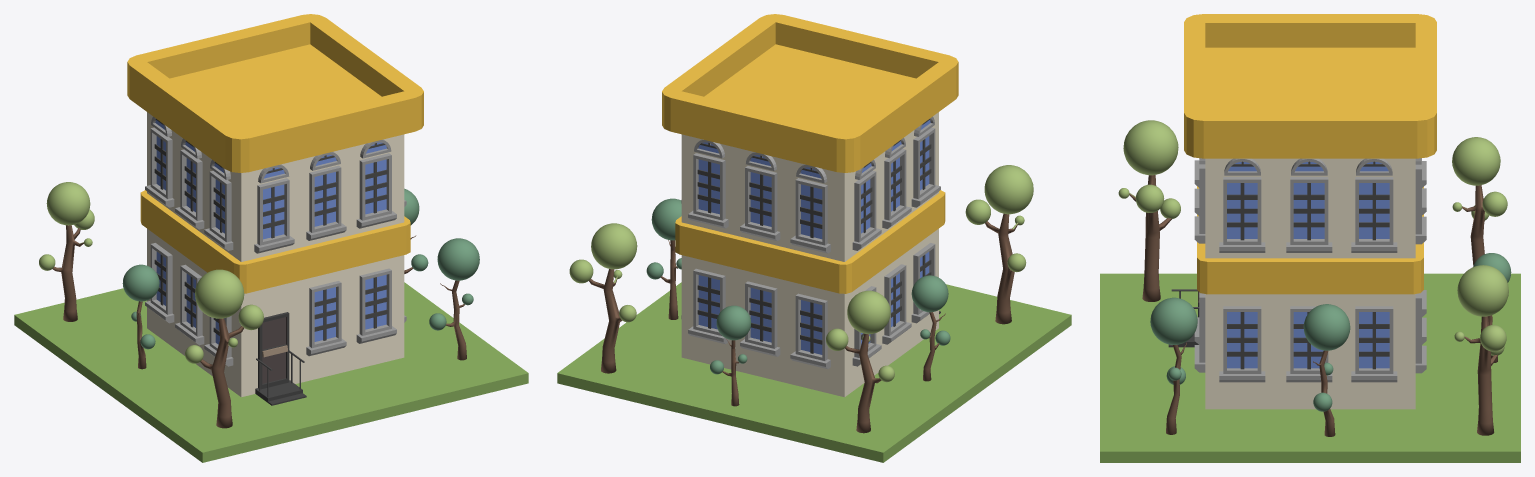
Rendered from buildingS.fbx.
3 renders of one model, left to right at view 1: azimuth 30°, elevation 25°; view 2: azimuth 150°, elevation 25°; view 3: azimuth 270°, elevation 25°, orthographic. The views are drawn at different scales.
Visible parts, largest first — view 1: Cube.098, Cube.124, Cylinder.029, Cylinder.028, Cube.122, Cylinder.032, Cube.101, Cube.100, Cube.099, Cube.103, Cube.102, Cylinder.025 (+7 smaller); view 2: Cube.098, Cube.124, Cylinder.029, Cylinder.027, Cylinder.028, Cube.114, Cube.113, Cube.115, Cube.110, Cube.112, Cube.111, Cylinder.026 (+8 smaller); view 3: Cube.098, Cube.124, Cylinder.029, Cylinder.027, Cylinder.028, Cube.121, Cube.120, Cube.118, Cube.117, Cube.116, Cylinder.032, Cylinder.026 (+9 smaller).
Boxes of the visible parts, bbox=[...] form: Cube.098: bbox=[127, 14, 423, 397]; Cube.124: bbox=[14, 282, 528, 462]; Cylinder.029: bbox=[185, 269, 263, 428]; Cylinder.028: bbox=[39, 182, 94, 321]; Cube.122: bbox=[255, 312, 306, 405]; Cylinder.032: bbox=[429, 238, 479, 360]; Cube.101: bbox=[356, 153, 396, 228]; Cube.100: bbox=[254, 178, 294, 253]; Cube.099: bbox=[306, 165, 346, 240]; Cube.103: bbox=[356, 268, 396, 343]; Cube.102: bbox=[306, 281, 346, 356]; Cylinder.025: bbox=[122, 264, 159, 369]; Cube.098: bbox=[662, 14, 958, 397]; Cube.124: bbox=[557, 282, 1071, 462]; Cylinder.029: bbox=[965, 165, 1033, 324]; Cylinder.027: bbox=[569, 223, 637, 373]; Cylinder.028: bbox=[826, 290, 894, 433]; Cube.114: bbox=[688, 153, 728, 228]; Cube.113: bbox=[740, 166, 780, 241]; Cube.115: bbox=[790, 178, 830, 253]; Cube.110: bbox=[790, 293, 830, 368]; Cube.112: bbox=[740, 281, 780, 356]; Cube.111: bbox=[688, 268, 728, 344]; Cylinder.026: bbox=[646, 198, 681, 319]; Cube.098: bbox=[1184, 14, 1436, 409]; Cube.124: bbox=[1100, 273, 1520, 462]; Cylinder.029: bbox=[1118, 120, 1180, 301]; Cylinder.027: bbox=[1454, 265, 1508, 435]; Cylinder.028: bbox=[1452, 137, 1507, 265]; Cube.121: bbox=[1351, 306, 1397, 382]; Cube.120: bbox=[1219, 306, 1265, 382]; Cube.118: bbox=[1286, 177, 1332, 252]; Cube.117: bbox=[1219, 177, 1265, 252]; Cube.116: bbox=[1351, 177, 1397, 252]; Cylinder.032: bbox=[1150, 297, 1197, 434]; Cylinder.026: bbox=[1303, 304, 1350, 436].
Bounding box in the file's own units: 400 × 324 × 400.
